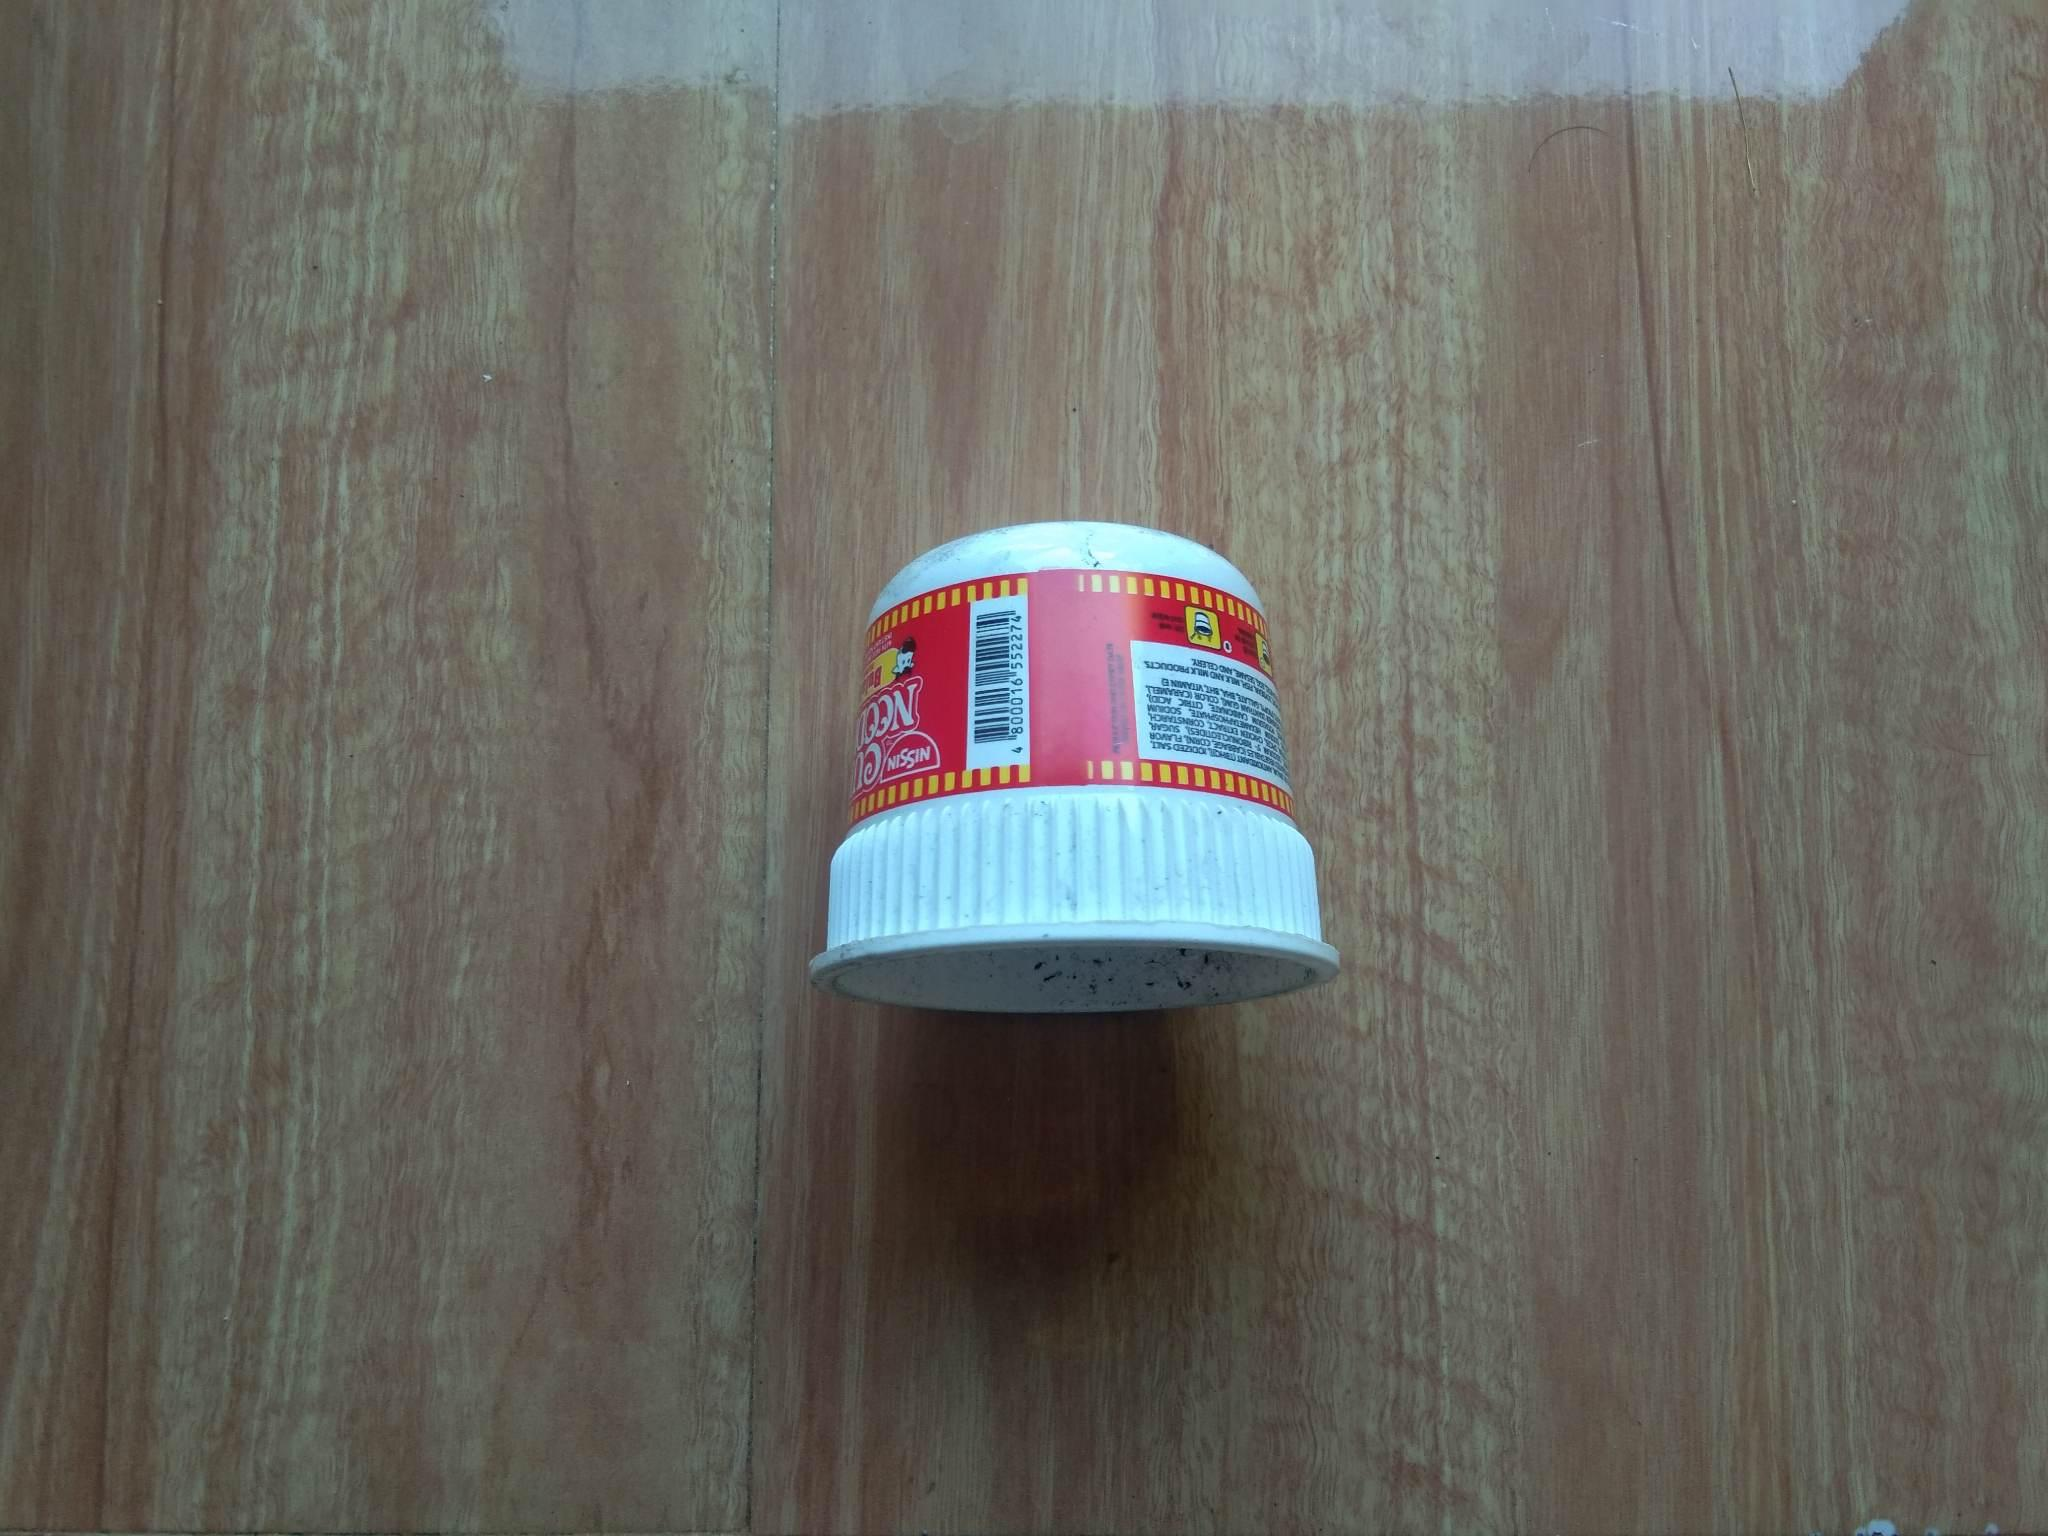plastic: (727, 395, 1385, 1133)
